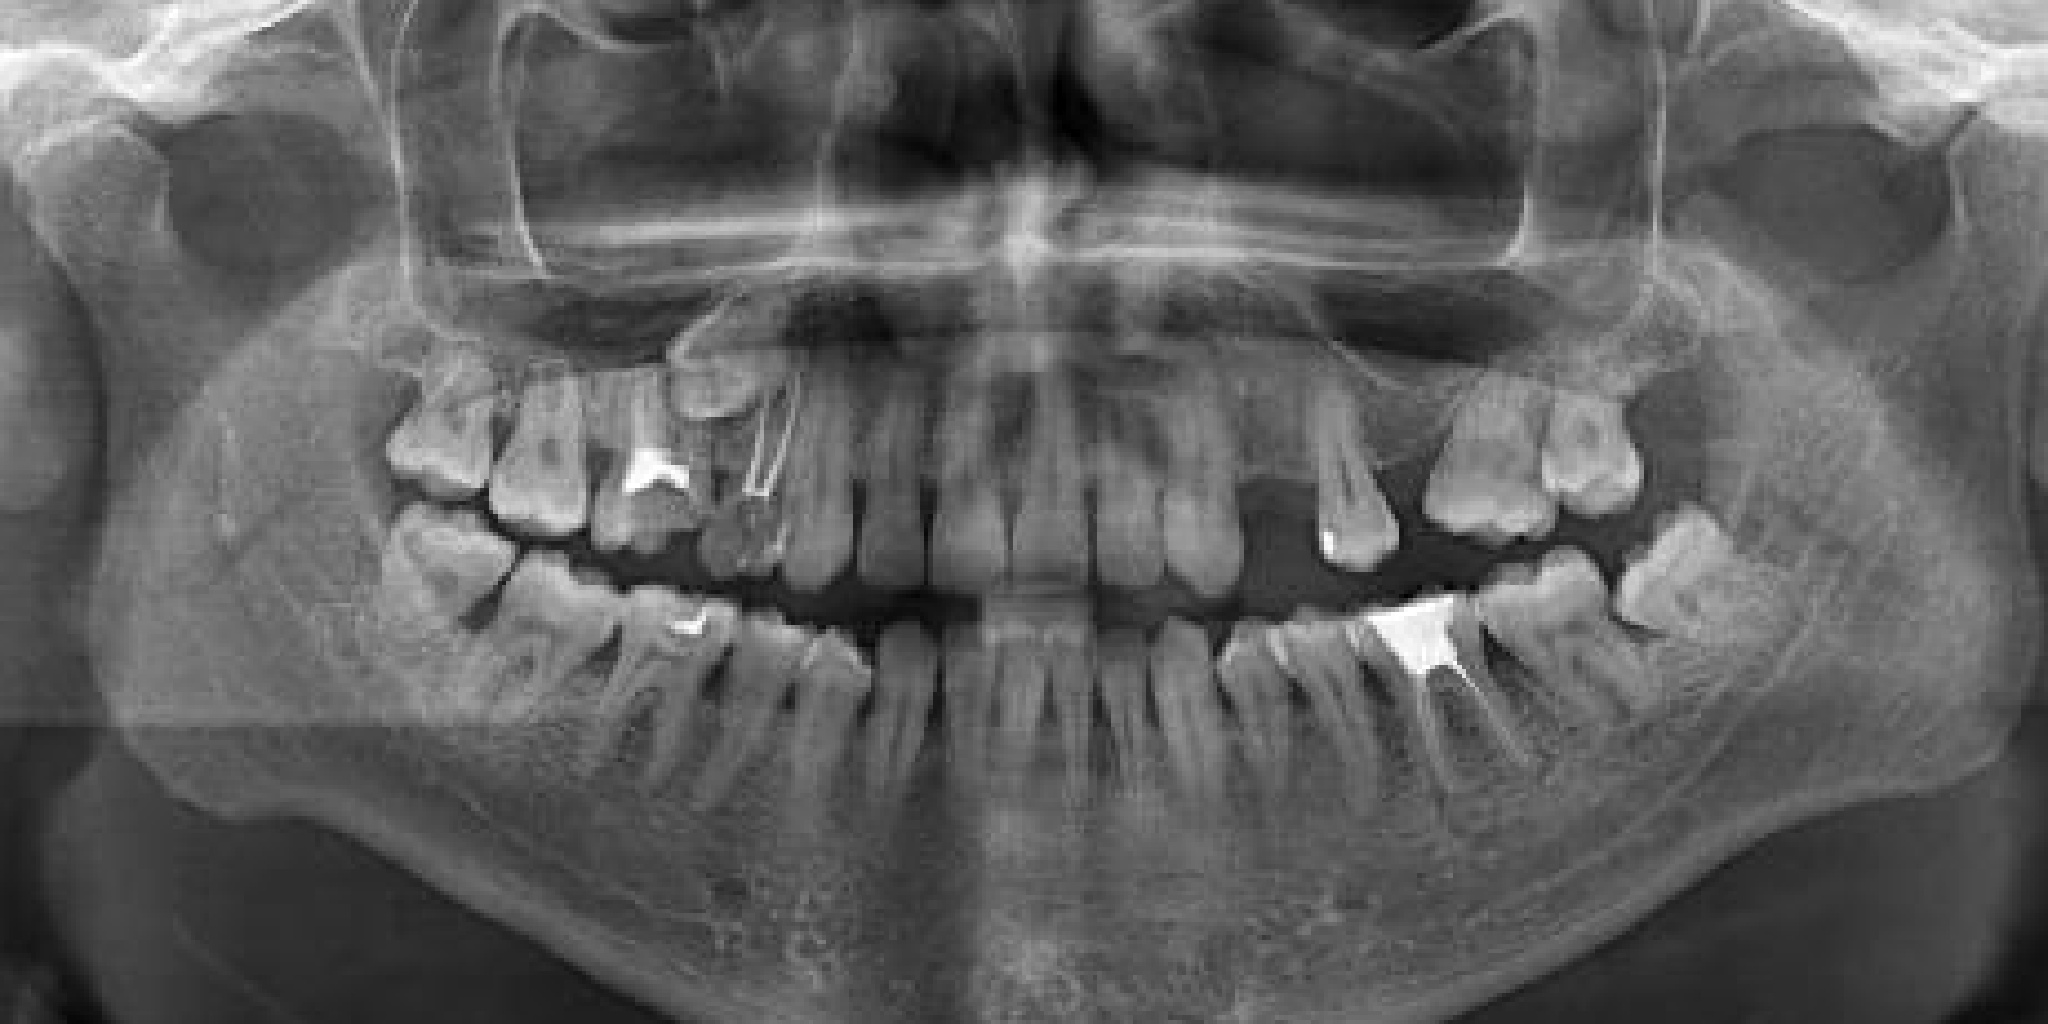Tooth: (1322, 546, 1571, 822), (1446, 513, 1678, 765), (426, 526, 645, 775), (543, 552, 754, 808), (1404, 317, 1605, 569), (647, 581, 829, 852), (635, 213, 833, 456), (572, 330, 758, 579), (1575, 478, 1782, 700), (680, 337, 850, 601), (731, 609, 889, 870), (1249, 589, 1407, 835), (1268, 313, 1411, 583), (341, 479, 526, 680), (917, 306, 1040, 602), (1055, 330, 1177, 600), (989, 312, 1098, 597), (845, 327, 960, 596), (370, 319, 524, 509), (1144, 321, 1249, 600), (771, 336, 878, 597), (1202, 609, 1319, 842), (839, 611, 953, 844), (1139, 603, 1240, 848), (485, 345, 603, 545), (1526, 332, 1648, 524), (963, 602, 1059, 837), (910, 618, 1000, 844), (1041, 607, 1119, 839), (1087, 613, 1169, 818)
